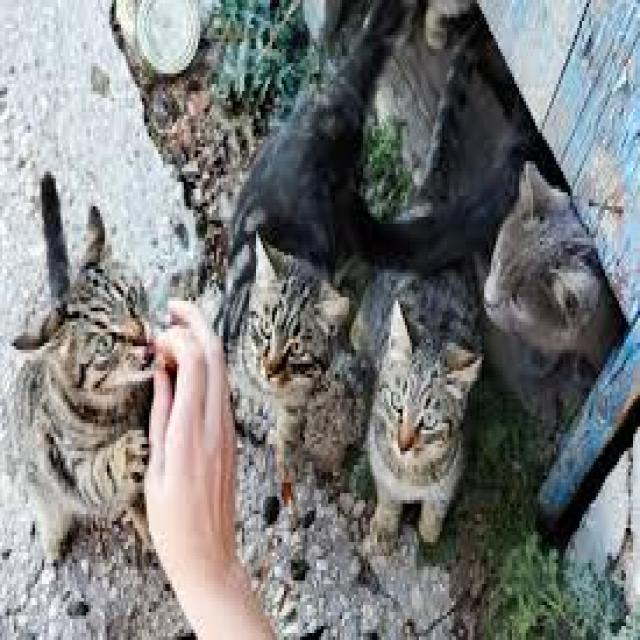cat: (14, 173, 153, 559), (335, 255, 483, 549), (226, 239, 350, 534), (484, 162, 623, 424)
